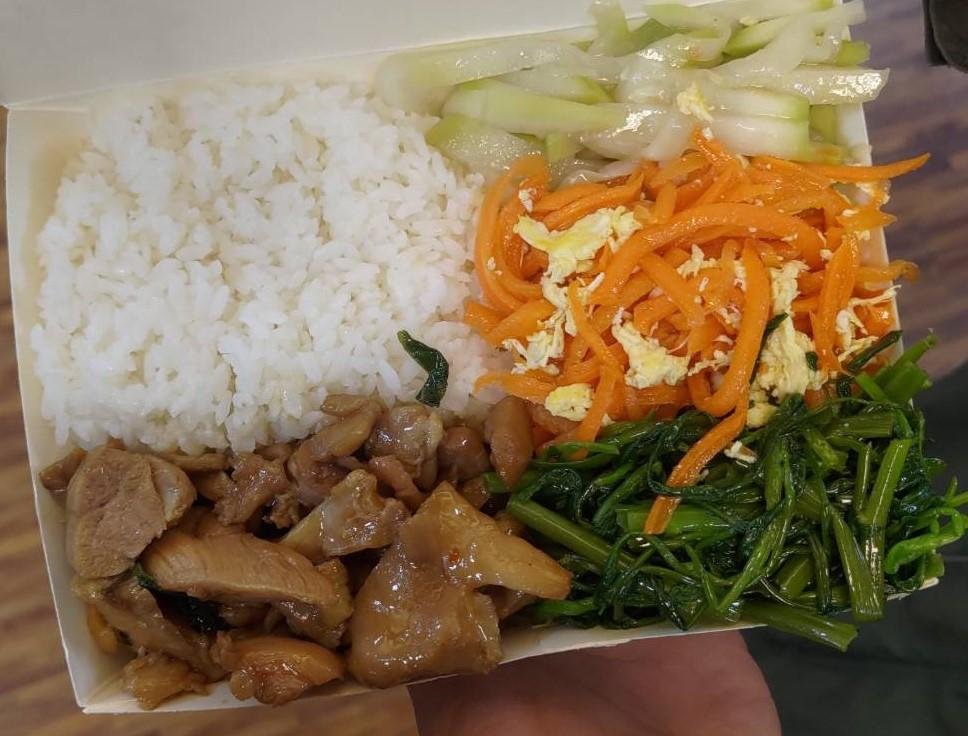big grilled chicken leg: (2, 49, 968, 728)
big herbal chicken leg: (17, 67, 503, 445)
braised fish fillet: (475, 177, 902, 423), (524, 397, 944, 619), (430, 12, 868, 170)
braised pork: (35, 419, 542, 703)
